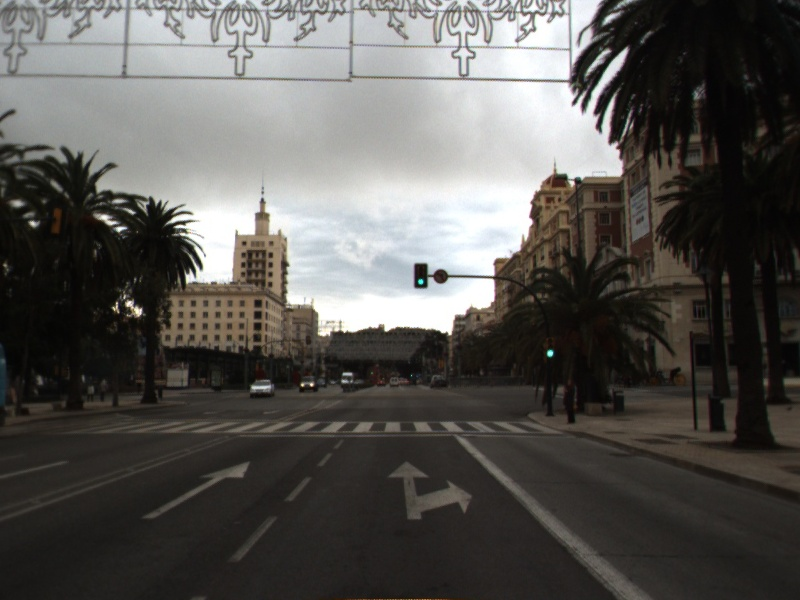STRAIGHT: (139, 458, 253, 522)
STRAIGHT_RIGHT: (384, 458, 476, 523)
